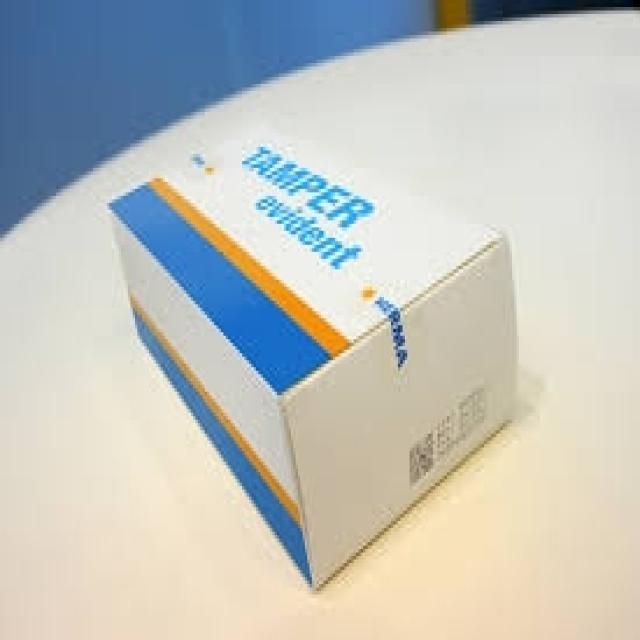datamatrix: (405, 423, 437, 497)
